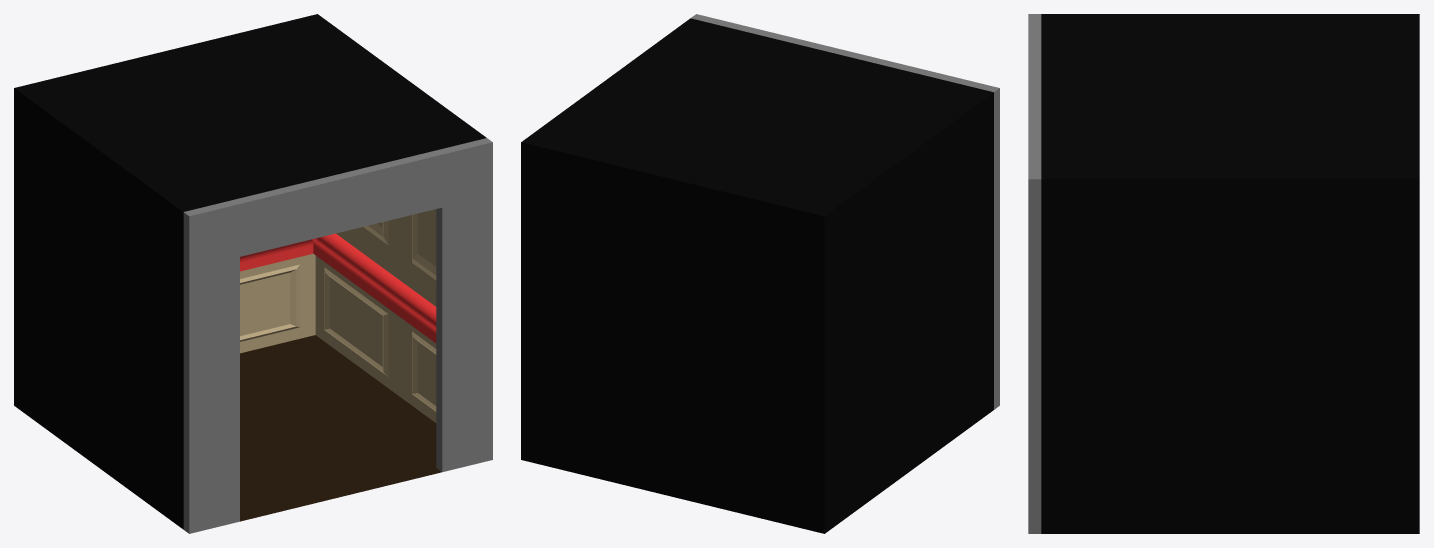
Rendered from Elevator_Fix.fbx.
3 renders of one model, left to right at view 1: azimuth 30°, elevation 25°; view 2: azimuth 150°, elevation 25°; view 3: azimuth 270°, elevation 25°, orthographic. The views are drawn at different scales.
Visible parts, largest first — view 1: FillWalls, Elevator, Flooring, Wall3, Wall2; view 2: FillWalls, Elevator; view 3: FillWalls, Elevator.
Part boxes in pixels (box(x1,y1,x2,y2)): FillWalls: box(14, 14, 486, 529); Elevator: box(183, 138, 492, 533); Flooring: box(240, 335, 441, 521); Wall3: box(312, 209, 436, 422); Wall2: box(240, 239, 315, 353); FillWalls: box(521, 18, 993, 533); Elevator: box(691, 14, 999, 409); FillWalls: box(1041, 14, 1419, 533); Elevator: box(1028, 14, 1041, 533).
Size of the model in its own units: 3 by 3 by 3.
